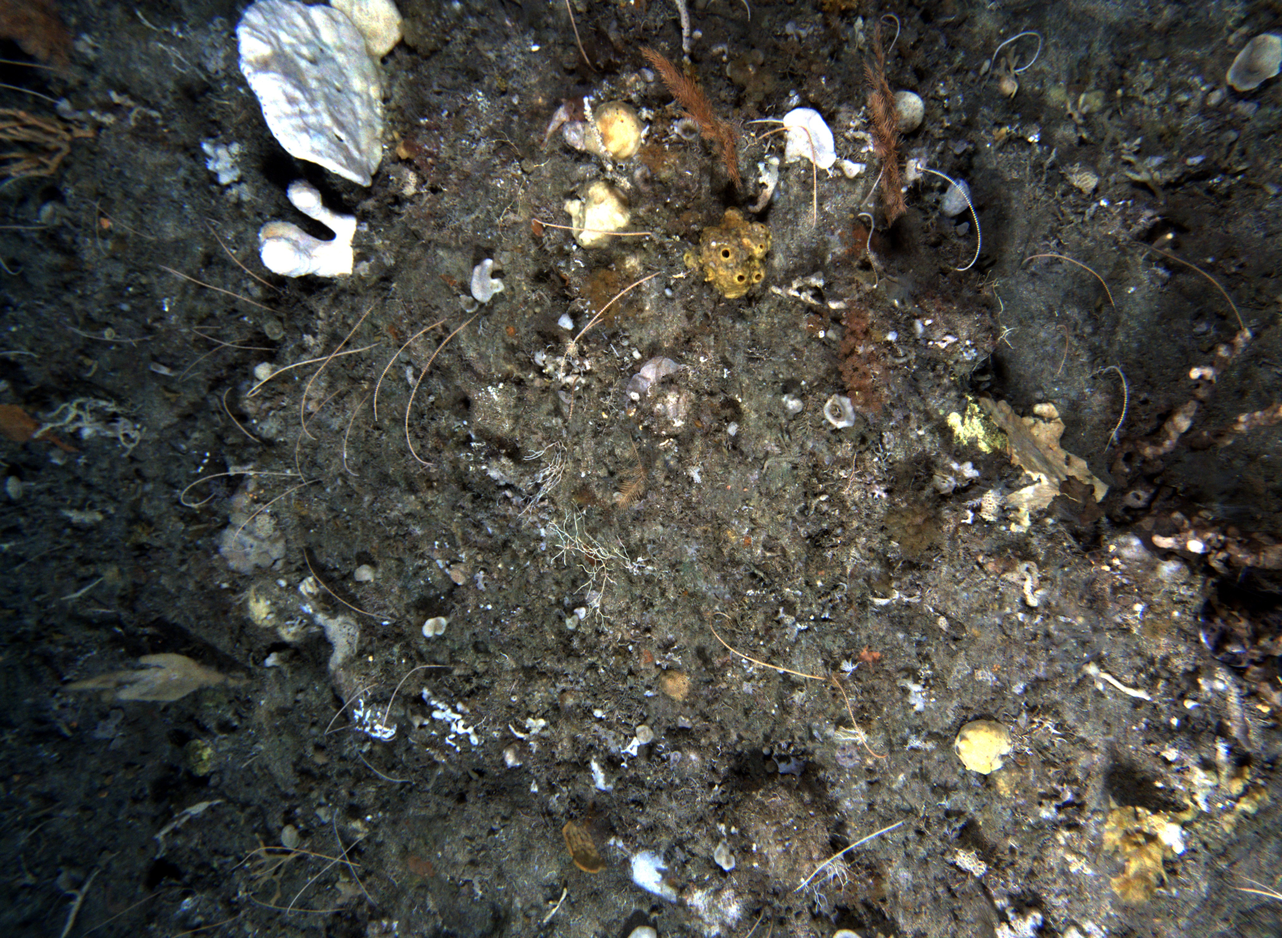Brachionichthyidae: (538, 100, 576, 151)
